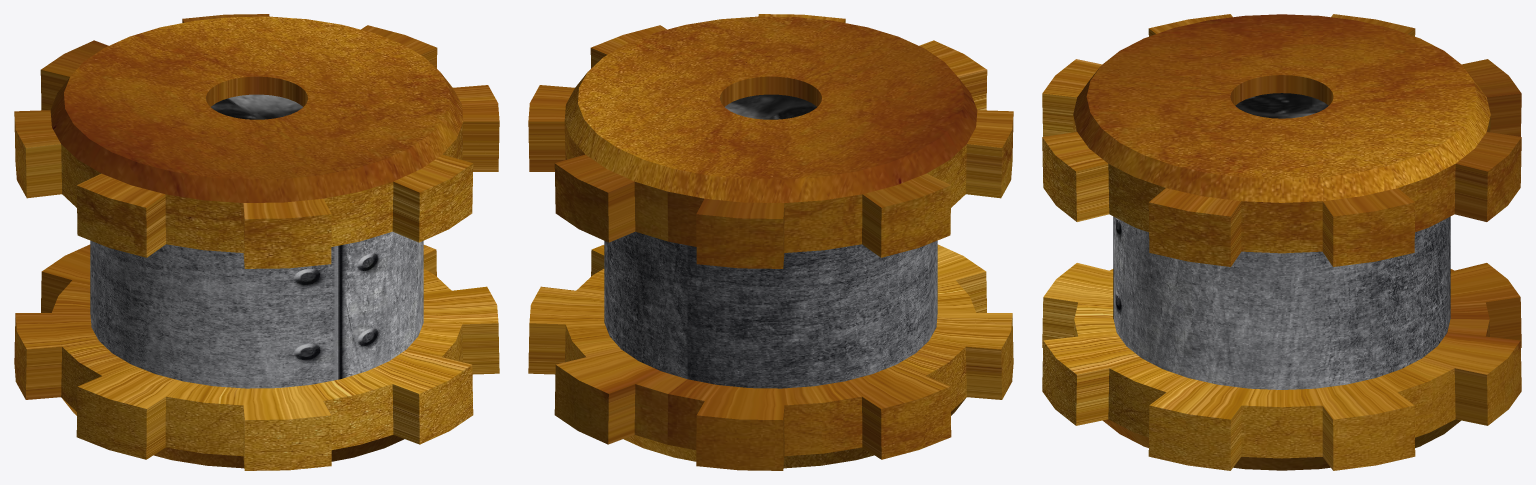
Rendered from Gear.fbx.
3 renders of one model, left to right at view 1: azimuth 30°, elevation 25°; view 2: azimuth 150°, elevation 25°; view 3: azimuth 270°, elevation 25°, orthographic.
Parts seen in each view (by area): view 1: Cylinder; view 2: Cylinder; view 3: Cylinder.
Part boxes in pixels (<box>): Cylinder: <box>14,14,499,470</box>; Cylinder: <box>528,14,1013,470</box>; Cylinder: <box>1042,14,1521,470</box>.
Size of the model in its own units: 285 by 191 by 285.
